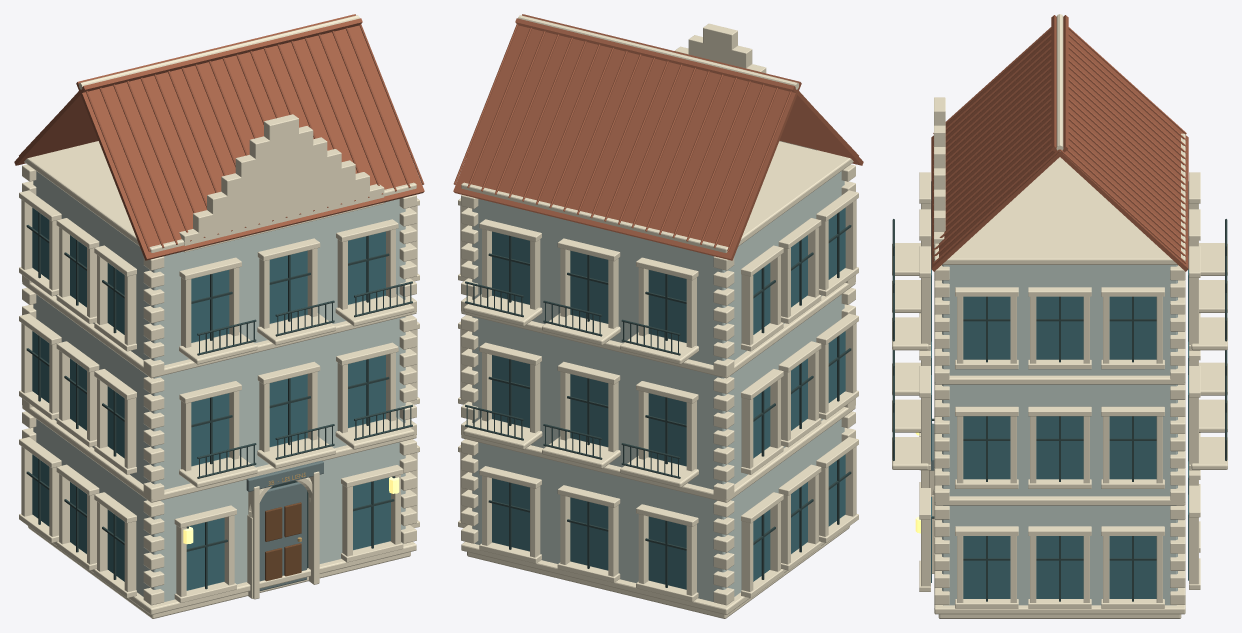
File: estonie-3.glb
3 views of the same model, side by side, from view 1: azimuth 30°, elevation 25°; view 2: azimuth 150°, elevation 25°; view 3: azimuth 270°, elevation 25° (orthographic). The views are drawn at different scales.
Parts seen in each view (by area): view 1: estonie-3_Dressed stone.001, estonie-3_Regional roof.001, estonie-3_Masonry plaster.001, estonie-3_Window blue, estonie-3_Forged midnight, estonie-3_Regional painted wood.001, estonie-3_Walnut; view 2: estonie-3_Dressed stone.001, estonie-3_Regional roof.001, estonie-3_Masonry plaster.001, estonie-3_Window blue, estonie-3_Forged midnight; view 3: estonie-3_Dressed stone.001, estonie-3_Regional roof.001, estonie-3_Masonry plaster.001, estonie-3_Window blue, estonie-3_Forged midnight.
Part boxes in pixels (<box>): estonie-3_Dressed stone.001: <box>19,15,419,618</box>; estonie-3_Regional roof.001: <box>14,14,424,260</box>; estonie-3_Masonry plaster.001: <box>33,171,405,601</box>; estonie-3_Window blue: <box>32,207,390,590</box>; estonie-3_Forged midnight: <box>26,212,412,589</box>; estonie-3_Regional painted wood.001: <box>246,460,323,590</box>; estonie-3_Walnut: <box>265,502,301,581</box>; estonie-3_Dressed stone.001: <box>458,15,858,618</box>; estonie-3_Regional roof.001: <box>453,14,863,260</box>; estonie-3_Masonry plaster.001: <box>472,171,844,601</box>; estonie-3_Window blue: <box>492,207,845,589</box>; estonie-3_Forged midnight: <box>465,212,851,587</box>; estonie-3_Dressed stone.001: <box>892,14,1227,618</box>; estonie-3_Regional roof.001: <box>931,15,1188,271</box>; estonie-3_Masonry plaster.001: <box>942,265,1177,605</box>; estonie-3_Window blue: <box>931,181,1188,598</box>; estonie-3_Forged midnight: <box>892,219,1227,601</box>.
Bounding box in the file's own units: 13.94 × 22.4 × 14.25.
